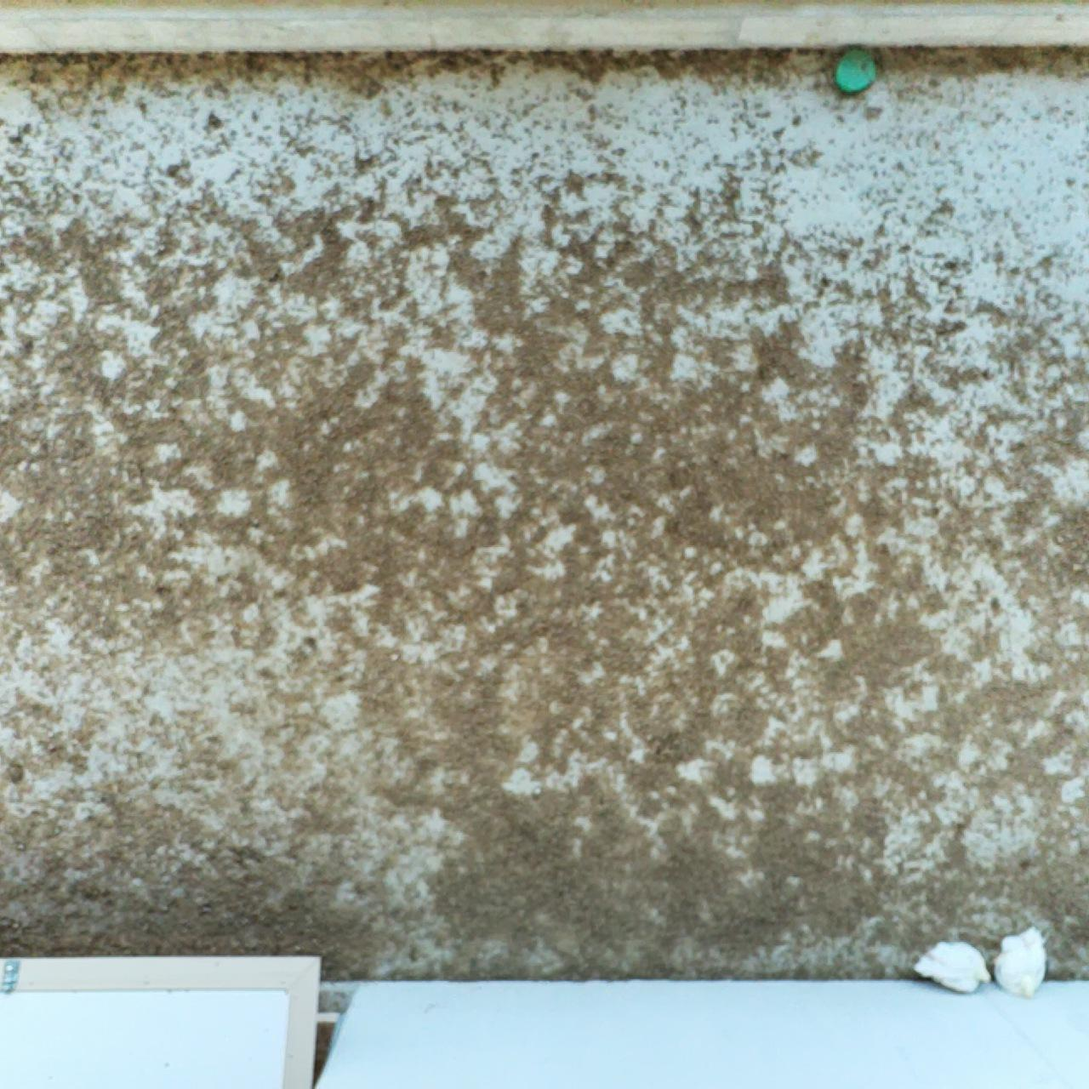chicken: (985, 923, 1055, 999), (908, 935, 993, 996)
